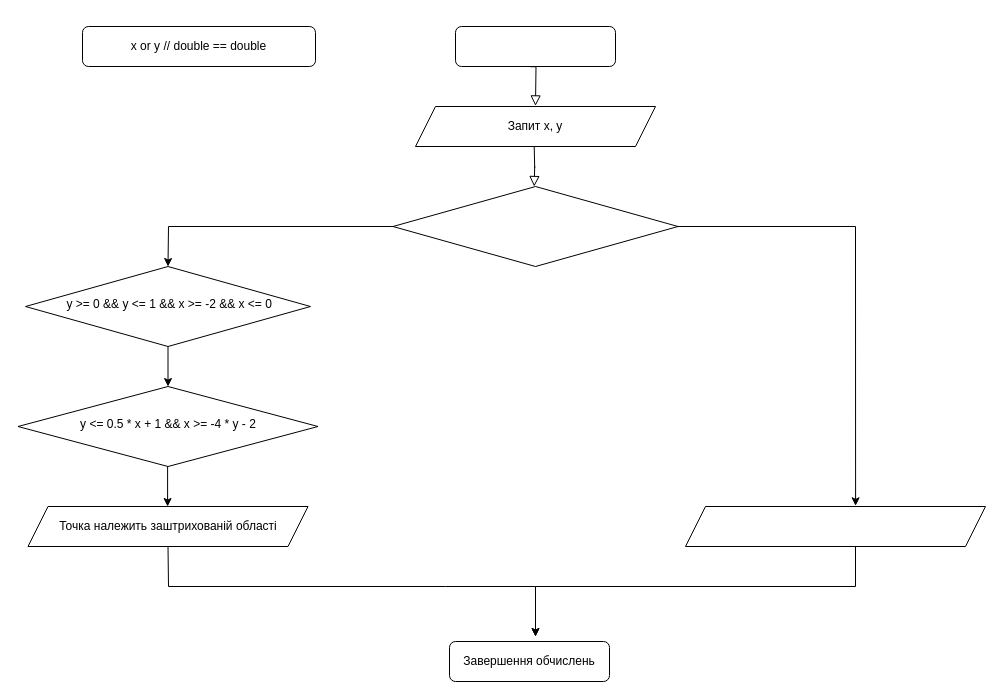
Some shapes in this 1003 by 699 pixel diagram are drawn without their labels. Each missing label, with the centre of its shape:
"y >= 0.5 * x + 1 && x <= -4 * y - 2" belongs at pixel 535 226.
"Початок обчислень" belongs at pixel 535 46.
"Точка не належить заштрихованій області" belongs at pixel 835 526.
